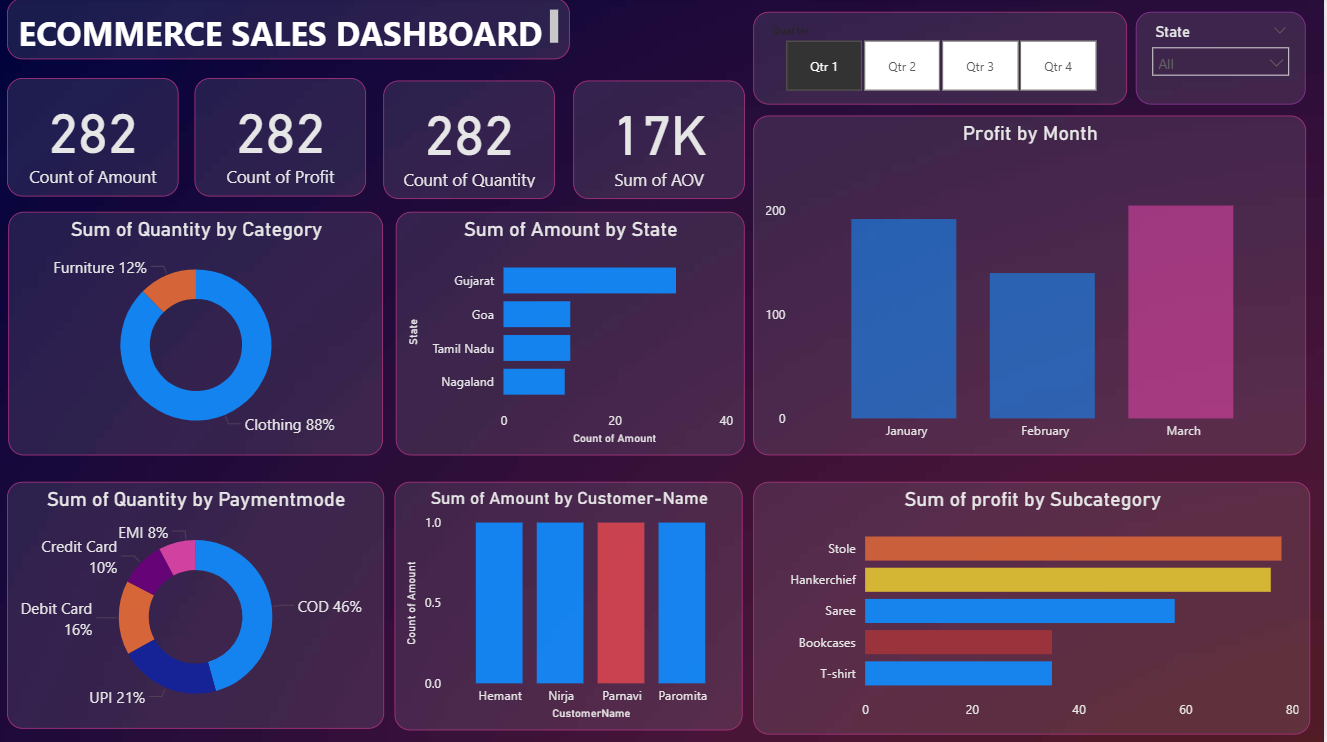

Layout of this report page (visuals, bound fields, positions):
{"tool":"powerbi","page":{"name":"Ecommerce Sales","canvas":[1280,720],"ordinal":0},"visuals":[{"type":"textbox","box":[9.7,0,542.9,59.1],"z":0},{"type":"columnChart","title":"Profit by Month","fields":{"Category":["Orders.Order Date.Variation.Date Hierarchy.Month"],"Y":["CountNonNull(Details.Profit)"]},"box":[729.9,113.4,533.2,328.2],"z":1000},{"type":"donutChart","title":"Sum of Quantity by Category","fields":{"Category":["Details.Category"],"Y":["CountNonNull(Details.Quantity)"]},"box":[10.9,206.3,361.9,235.3],"z":2000},{"type":"clusteredBarChart","title":"Sum of profit by Subcategory","fields":{"Y":["CountNonNull(Details.Profit)"],"Category":["Details.Sub-Category"]},"box":[730,466.6,537.9,244.3],"z":3000},{"type":"donutChart","title":"Sum of Quantity by Paymentmode","fields":{"Y":["CountNonNull(Details.Quantity)"],"Category":["Details.PaymentMode"]},"box":[9.6,466.6,363.6,238.8],"z":4000},{"type":"card","title":"Sum of profit by Subcategory","fields":{"Values":["CountNonNull(Details.Amount)"]},"box":[9.7,77.2,165.3,114.6],"z":5000},{"type":"card","title":"Sum of profit by Subcategory","fields":{"Values":["CountNonNull(Details.Profit)"]},"box":[190.6,77.2,165.3,114.6],"z":6000},{"type":"card","title":"Sum of profit by Subcategory","fields":{"Values":["CountNonNull(Details.Quantity)"]},"box":[372.8,79.6,165.3,114.6],"z":7000},{"type":"card","title":"Sum of profit by Subcategory","fields":{"Values":["Sum(Details.AOV)"]},"box":[556.2,79.6,165.3,114.6],"z":8000},{"type":"clusteredBarChart","title":"Sum of Amount by State","fields":{"Y":["CountNonNull(Details.Amount)"],"Category":["Orders.State"]},"box":[384.9,206.3,336.6,235.3],"z":9000},{"type":"columnChart","title":"Sum of Amount by Customer-Name","fields":{"Category":["Orders.CustomerName"],"Y":["CountNonNull(Details.Amount)"]},"box":[384.2,466.6,336.2,240.1],"z":10000},{"type":"slicer","fields":{"Values":["Orders.Order Date.Variation.Date Hierarchy.Quarter"]},"box":[729.9,13.3,360.7,89.3],"z":11000},{"type":"slicer","fields":{"Values":["Orders.State"]},"box":[1099.1,13.3,164.1,89.3],"z":12000}]}

Visuals, with their boxes in screenshot pixels (x1, y1, x2, y2), scaled from the page's 1280x720 canvas onto the 1327x742 screenshot:
textbox: x1=10 y1=0 x2=573 y2=61
"Profit by Month" columnChart: x1=757 y1=117 x2=1309 y2=455
"Sum of Quantity by Category" donutChart: x1=11 y1=213 x2=386 y2=455
"Sum of profit by Subcategory" clusteredBarChart: x1=757 y1=481 x2=1314 y2=733
"Sum of Quantity by Paymentmode" donutChart: x1=10 y1=481 x2=387 y2=727
"Sum of profit by Subcategory" card: x1=10 y1=80 x2=181 y2=198
"Sum of profit by Subcategory" card: x1=198 y1=80 x2=369 y2=198
"Sum of profit by Subcategory" card: x1=386 y1=82 x2=558 y2=200
"Sum of profit by Subcategory" card: x1=577 y1=82 x2=748 y2=200
"Sum of Amount by State" clusteredBarChart: x1=399 y1=213 x2=748 y2=455
"Sum of Amount by Customer-Name" columnChart: x1=398 y1=481 x2=747 y2=728
slicer - Orders.Order Date.Variation.Date Hierarchy.Quarter: x1=757 y1=14 x2=1131 y2=106
slicer - Orders.State: x1=1139 y1=14 x2=1310 y2=106
